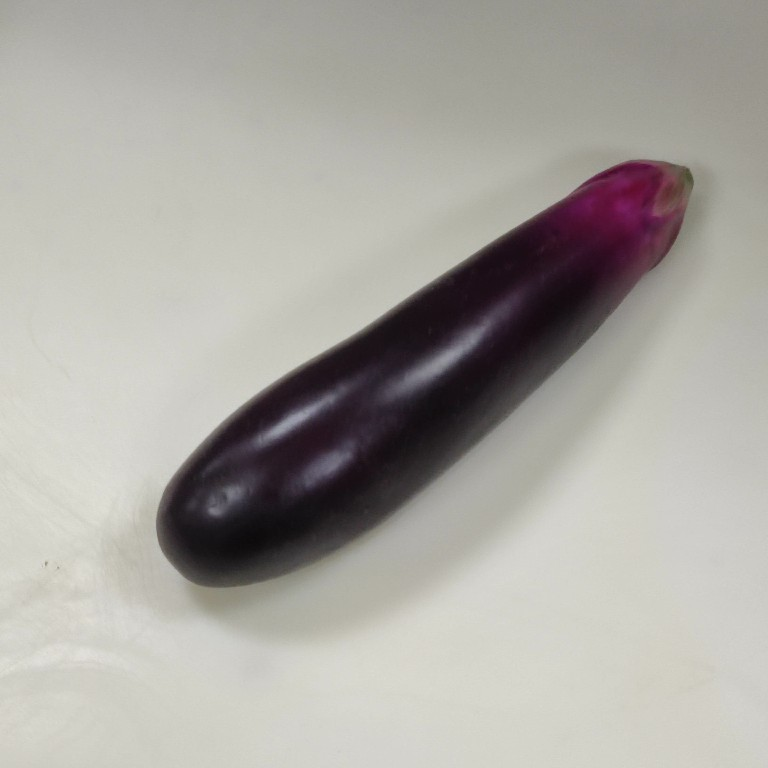fruit_eggplant: (150, 154, 697, 592)
